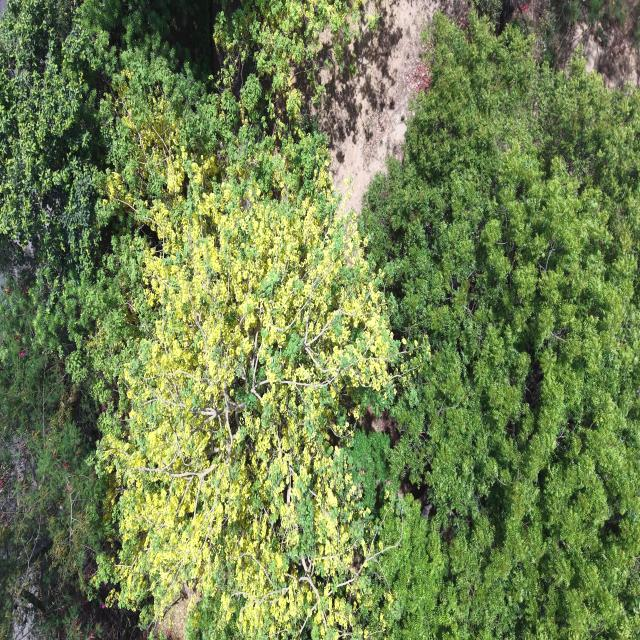DRY_AREA: (312, 0, 470, 212), (314, 0, 471, 212), (313, 0, 469, 212), (311, 0, 438, 212), (316, 0, 438, 212), (499, 0, 639, 88), (556, 0, 639, 87), (567, 22, 639, 87), (0, 432, 37, 525), (153, 586, 200, 639), (153, 593, 190, 639)
VEGETATION_TREE: (0, 0, 639, 639), (0, 2, 393, 636), (87, 2, 394, 636), (362, 16, 639, 639)
